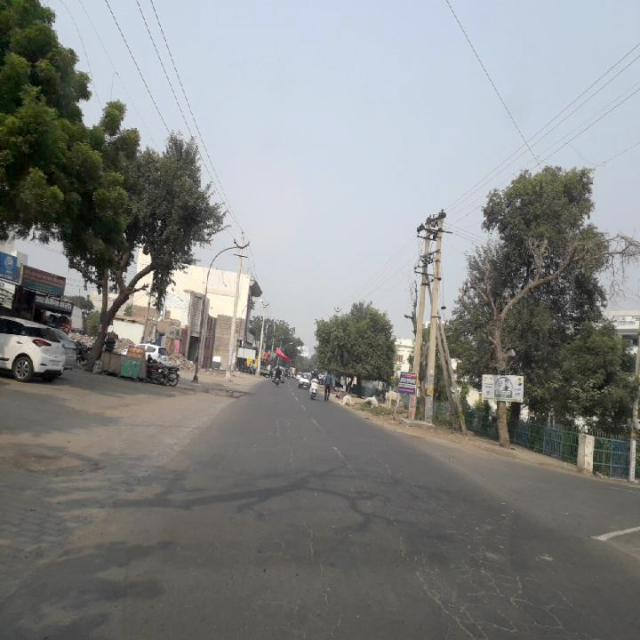crack: (412, 521, 568, 635)
